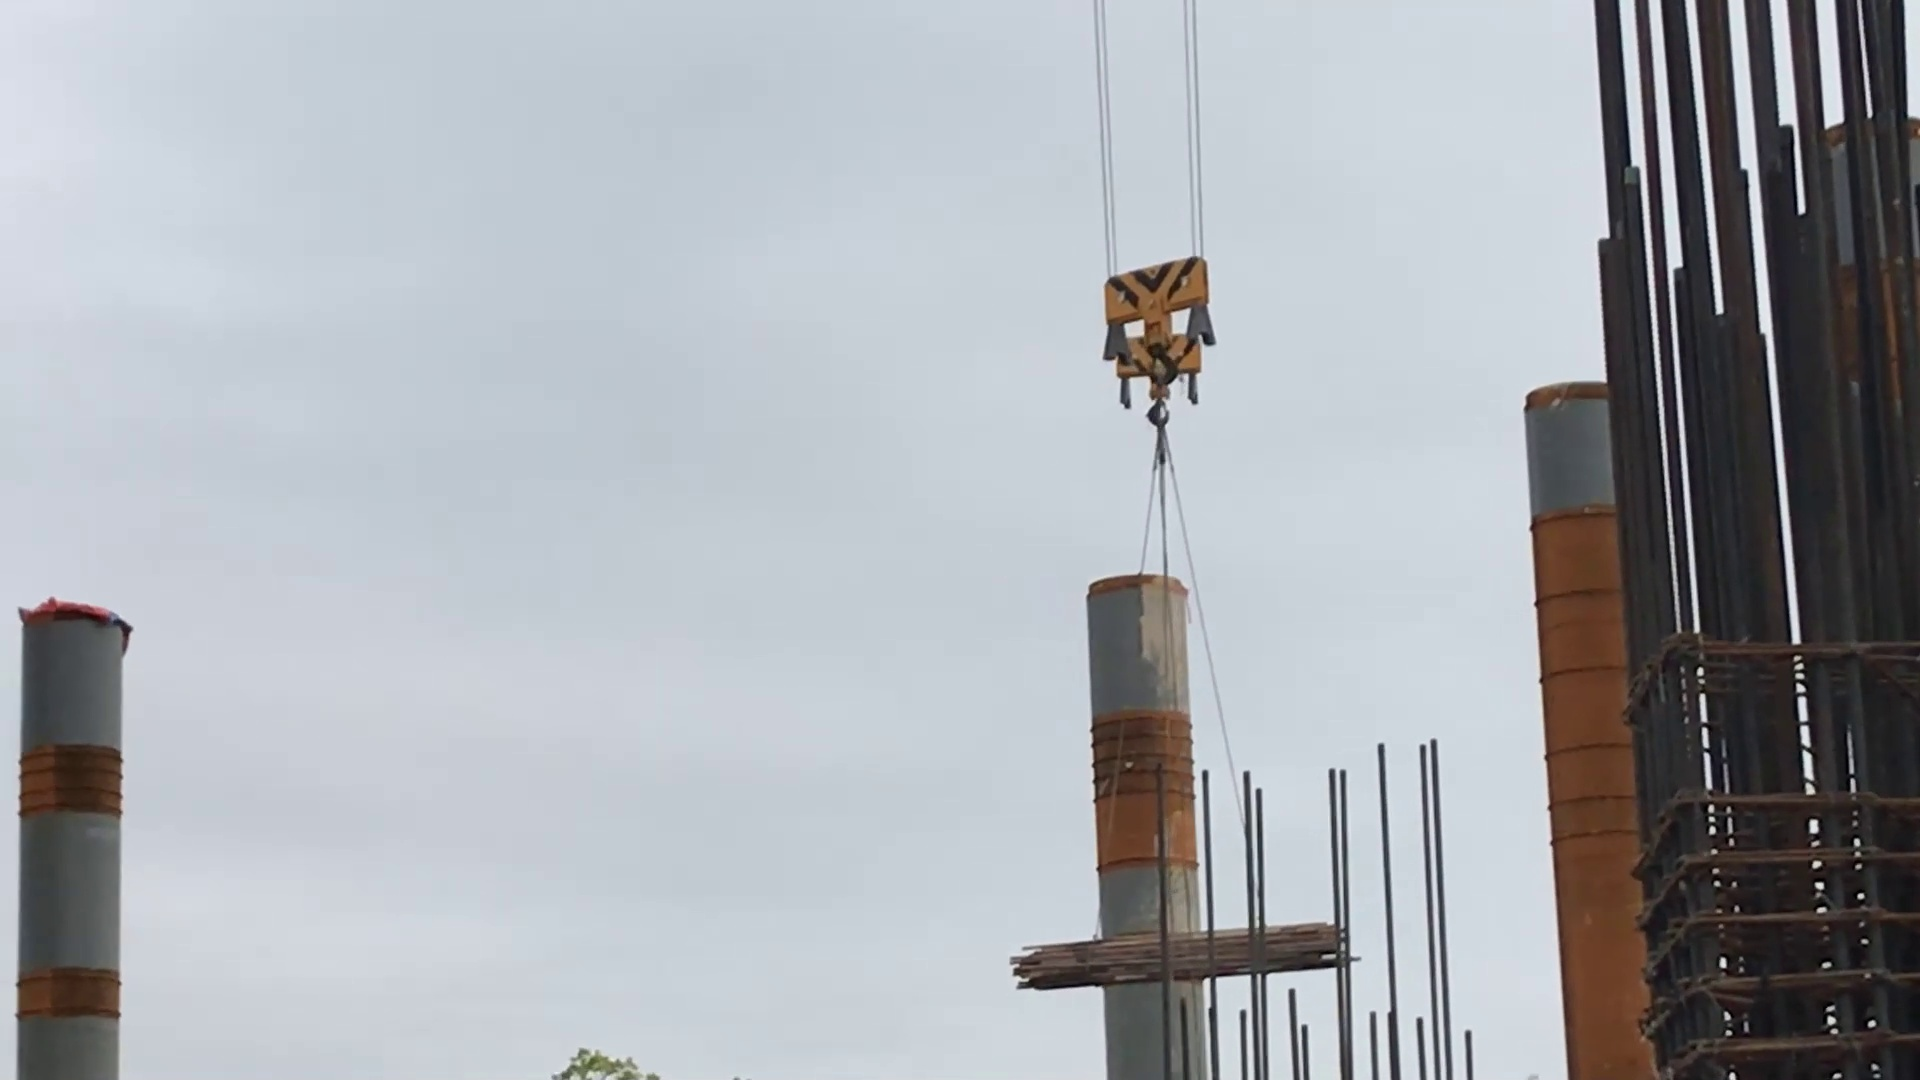hook: (1098, 255, 1221, 390), (1116, 330, 1207, 433)
